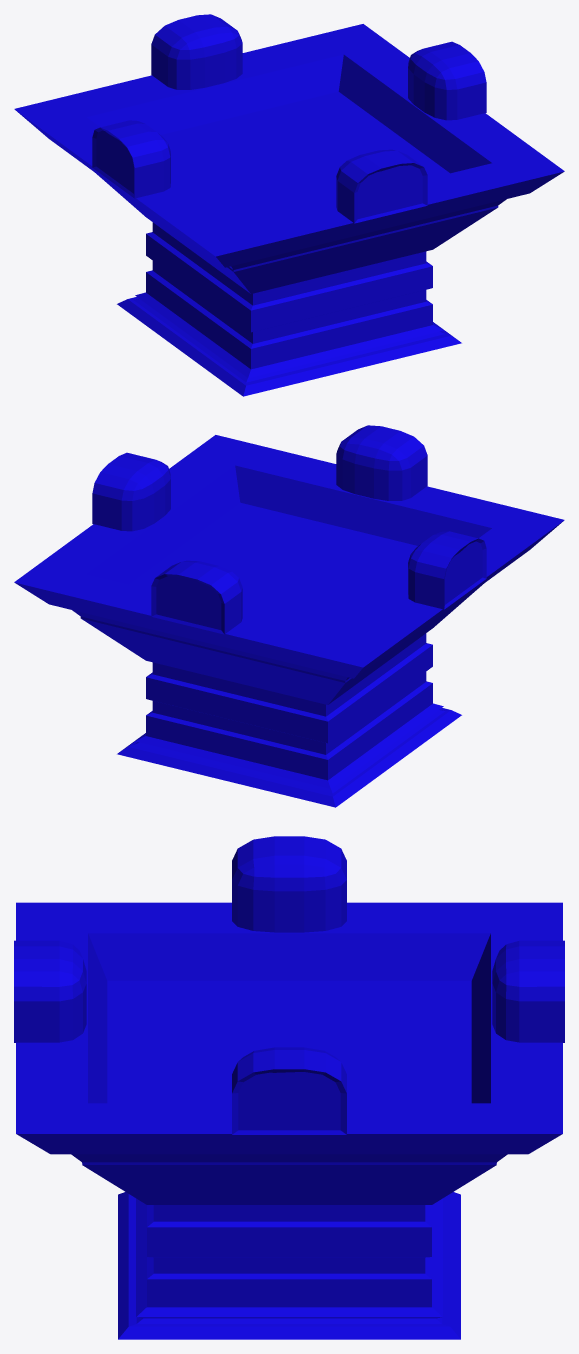
Rendered from table.fbx.
The picture shows the model from 3 angles, top to bottom: view 1: azimuth 30°, elevation 25°; view 2: azimuth 150°, elevation 25°; view 3: azimuth 270°, elevation 25°; orthographic projection. The views are drawn at different scales.
Visible parts, largest first — view 1: Cube; view 2: Cube; view 3: Cube.
Boxes of the visible parts, bbox=[...] form: Cube: bbox=[14, 14, 564, 396]; Cube: bbox=[14, 425, 564, 807]; Cube: bbox=[14, 836, 564, 1339].
Size of the model in its own units: 921 by 580 by 921.
